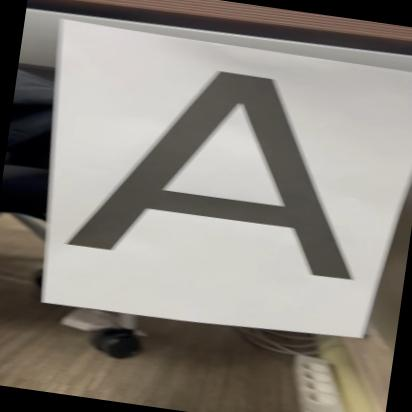seat: (56, 43, 390, 295)
